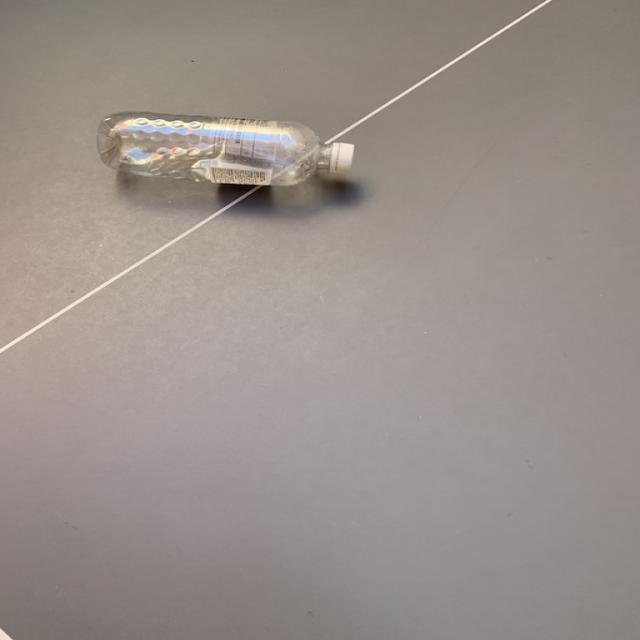Waste: (96, 112, 354, 185)
